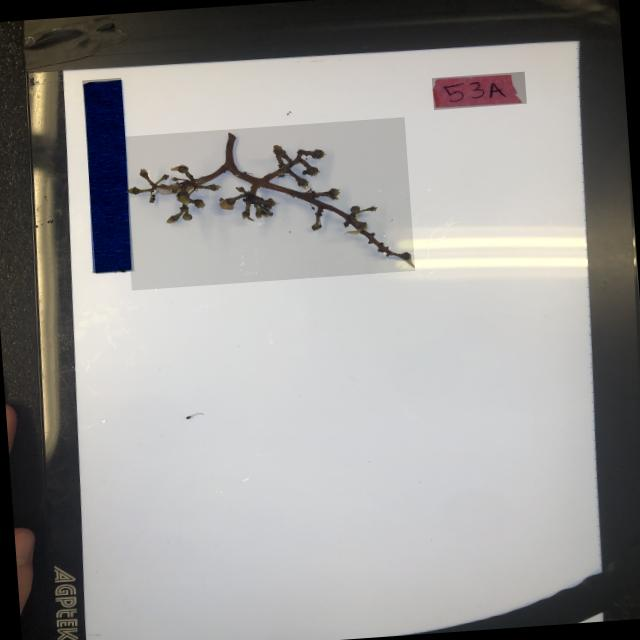index: (432, 72, 526, 110)
measure_label: (82, 78, 134, 274)
rachis_cluster: (120, 117, 414, 290)
